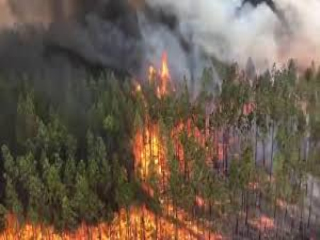fire: (5, 199, 240, 240), (131, 120, 227, 190), (145, 53, 180, 99)
smoke: (180, 6, 317, 89)
